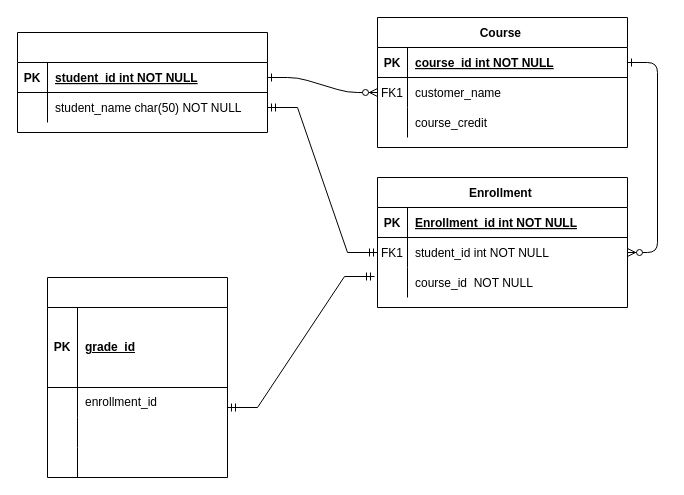
Image size: 684x495. Some labels were removed from this diagram. Each missing label, with the box of its shape:
Grades: (46, 276, 228, 478)
Students: (16, 32, 268, 132)
